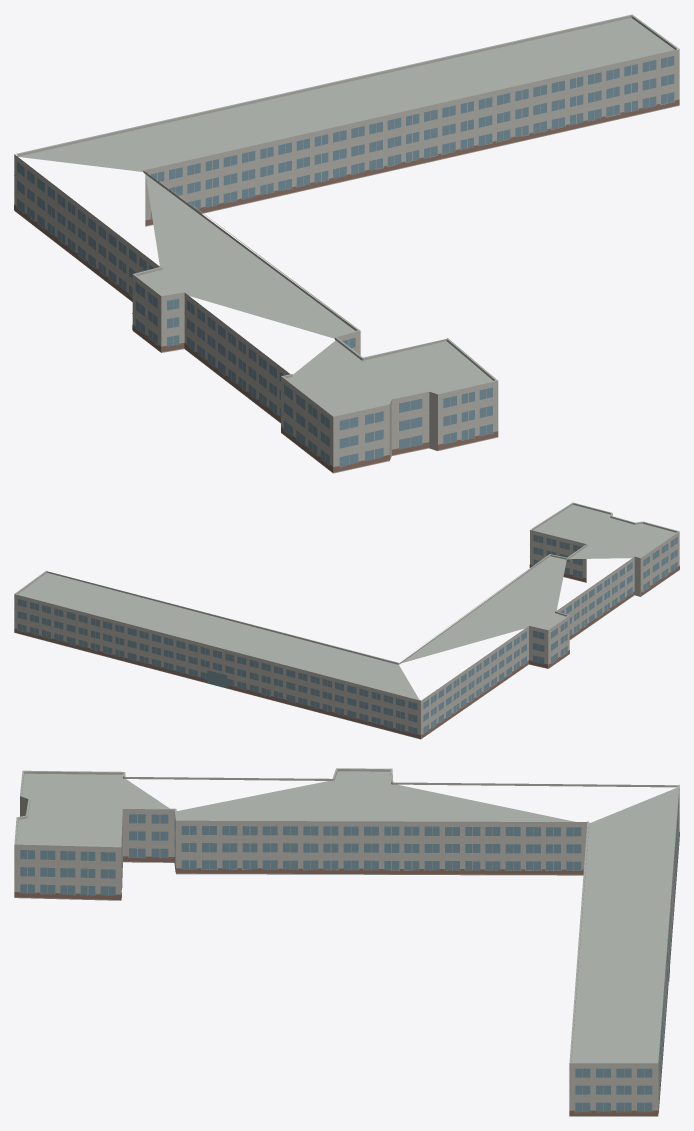
Rendered from public-914eab06-2fd6-4820-8265-d71f099e334c.glb.
The picture shows the model from 3 angles, top to bottom: view 1: azimuth 30°, elevation 25°; view 2: azimuth 150°, elevation 25°; view 3: azimuth 270°, elevation 25°; orthographic projection. The views are drawn at different scales.
Parts seen in each view (by area): view 1: public-914eab06-2fd6-4820-8265-d71f099e334c; view 2: public-914eab06-2fd6-4820-8265-d71f099e334c; view 3: public-914eab06-2fd6-4820-8265-d71f099e334c.
Part boxes in pixels (x1,y1,x2,y2): public-914eab06-2fd6-4820-8265-d71f099e334c: [14, 14, 679, 473]; public-914eab06-2fd6-4820-8265-d71f099e334c: [14, 502, 679, 739]; public-914eab06-2fd6-4820-8265-d71f099e334c: [14, 768, 679, 1116].
Size of the model in its own units: 108 by 9.15 by 103.
